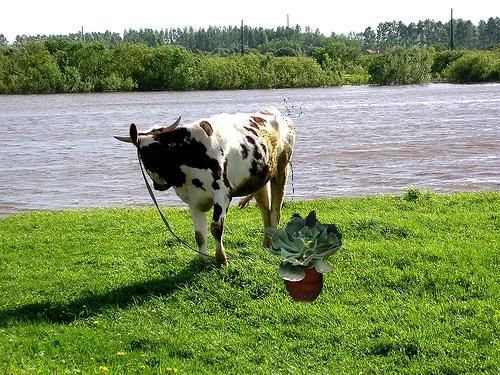tampered: (266, 99, 342, 302)
